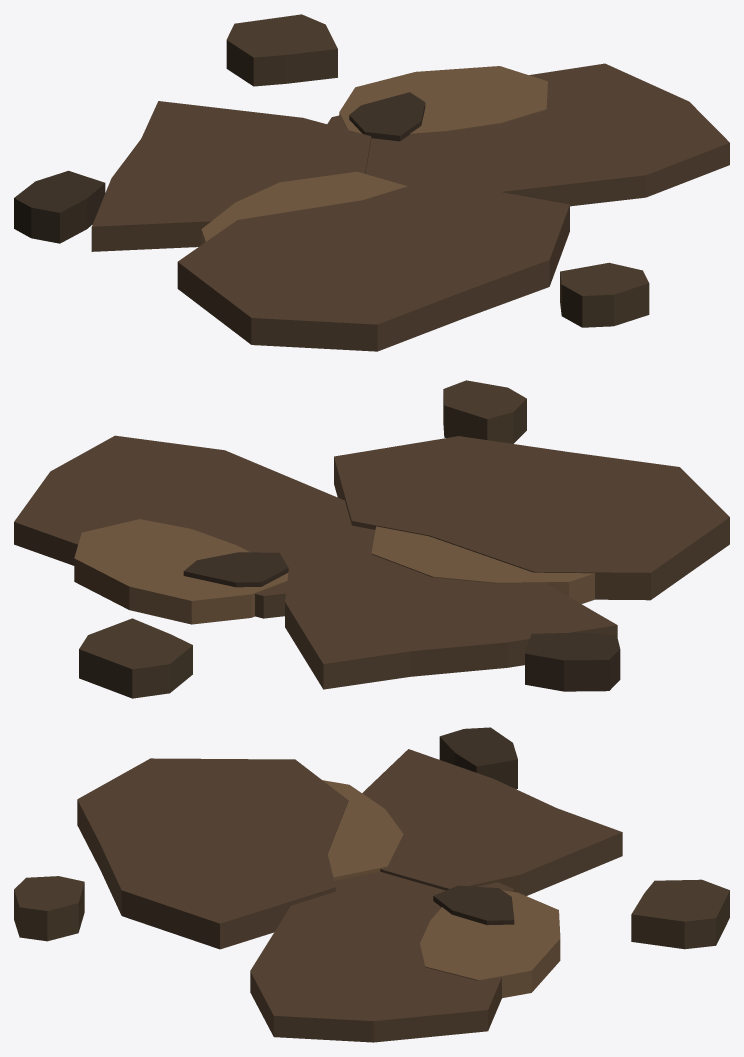
The model's file is mdvl_village_dirt_light_01.glb.
The picture shows the model from 3 angles, top to bottom: view 1: azimuth 30°, elevation 25°; view 2: azimuth 150°, elevation 25°; view 3: azimuth 270°, elevation 25°; orthographic projection. The views are drawn at different scales.
Visible parts, largest first — view 1: mdvl_village_dirt_light_01; view 2: mdvl_village_dirt_light_01; view 3: mdvl_village_dirt_light_01.
Boxes of the visible parts, x1,y1,x2,y2 form: mdvl_village_dirt_light_01: [14, 14, 729, 351]; mdvl_village_dirt_light_01: [14, 380, 729, 698]; mdvl_village_dirt_light_01: [14, 727, 729, 1042].
Bounding box in the file's own units: 0.6887 × 0.034 × 0.7293.
1 material, 1 textured.
